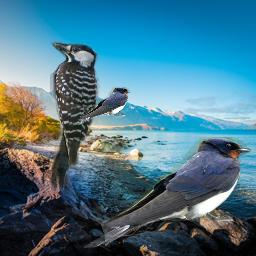Swallow: (84, 137, 251, 253), (74, 87, 131, 127)
Woodpecker: (48, 39, 101, 191)
